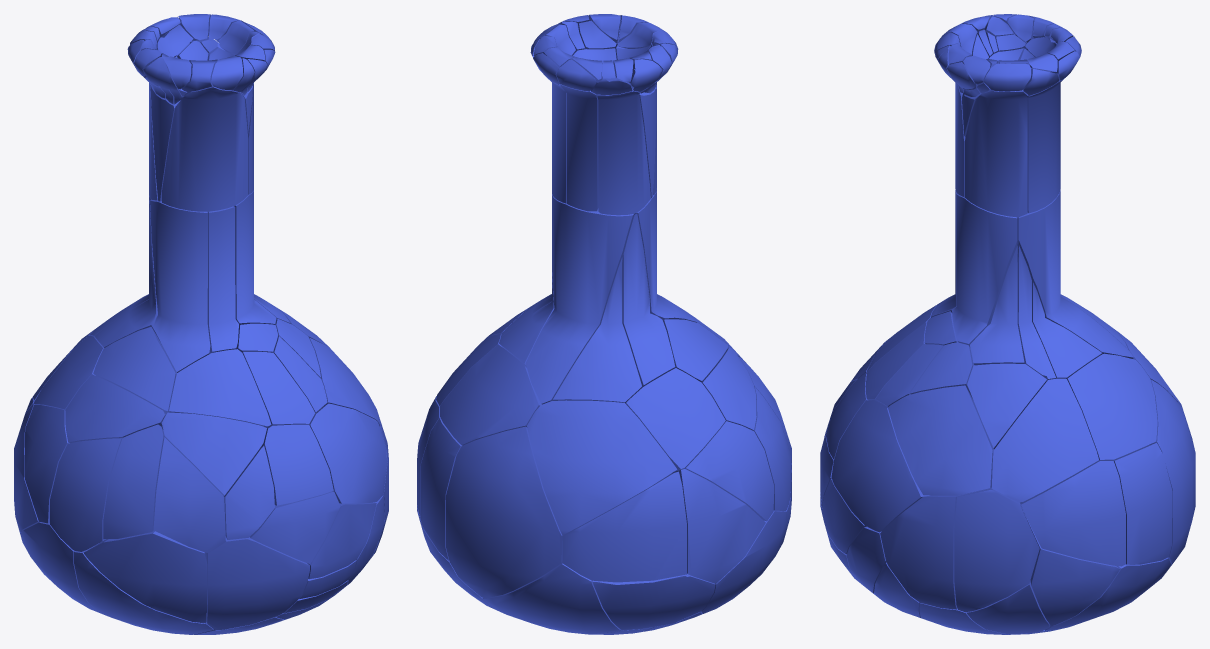
The model's file is BottleFractured 1.fbx.
3 views of the same model, side by side, from view 1: azimuth 30°, elevation 25°; view 2: azimuth 150°, elevation 25°; view 3: azimuth 270°, elevation 25° (orthographic).
Visible parts, largest first — view 1: FlorenceFlask_cell.009, FlorenceFlask_cell.081, FlorenceFlask_cell.029, FlorenceFlask_cell.064, FlorenceFlask_cell.061, FlorenceFlask_cell.020, FlorenceFlask_cell.023, FlorenceFlask_cell.053, FlorenceFlask_cell.030, FlorenceFlask_cell.035, FlorenceFlask_cell.087, FlorenceFlask_cell.083 (+29 smaller); view 2: FlorenceFlask_cell.058, FlorenceFlask_cell.004, FlorenceFlask_cell.012, FlorenceFlask_cell.050, FlorenceFlask_cell.094, FlorenceFlask_cell.013, FlorenceFlask_cell.097, FlorenceFlask_cell.044, FlorenceFlask_cell.015, FlorenceFlask_cell.031, FlorenceFlask_cell.047, FlorenceFlask_cell.042 (+21 smaller); view 3: FlorenceFlask_cell, FlorenceFlask_cell.079, FlorenceFlask_cell.072, FlorenceFlask_cell.093, FlorenceFlask_cell.020, FlorenceFlask_cell.005, FlorenceFlask_cell.094, FlorenceFlask_cell.038, FlorenceFlask_cell.077, FlorenceFlask_cell.012, FlorenceFlask_cell.010, FlorenceFlask_cell.033 (+25 smaller).
Boxes of the visible parts, x1,y1,x2,y2 form: FlorenceFlask_cell.009: (162,86,248,211); FlorenceFlask_cell.081: (150,199,210,372); FlorenceFlask_cell.029: (83,530,207,623); FlorenceFlask_cell.064: (206,536,309,629); FlorenceFlask_cell.061: (50,438,122,551); FlorenceFlask_cell.020: (308,403,387,503); FlorenceFlask_cell.023: (153,437,225,552); FlorenceFlask_cell.053: (169,349,271,427); FlorenceFlask_cell.030: (161,412,266,495); FlorenceFlask_cell.035: (103,424,165,538); FlorenceFlask_cell.087: (65,374,166,442); FlorenceFlask_cell.083: (93,327,176,414); FlorenceFlask_cell.058: (446,426,562,597); FlorenceFlask_cell.004: (527,400,677,534); FlorenceFlask_cell.012: (525,194,634,404); FlorenceFlask_cell.050: (562,471,686,582); FlorenceFlask_cell.094: (439,344,541,445); FlorenceFlask_cell.013: (671,469,765,583); FlorenceFlask_cell.097: (597,82,650,215); FlorenceFlask_cell.044: (625,368,725,470); FlorenceFlask_cell.015: (553,257,641,403); FlorenceFlask_cell.031: (483,561,622,634); FlorenceFlask_cell.047: (675,421,774,521); FlorenceFlask_cell.042: (592,573,715,630); FlorenceFlask_cell: (888,385,994,495); FlorenceFlask_cell.079: (991,378,1098,502); FlorenceFlask_cell.072: (954,489,1039,612); FlorenceFlask_cell.093: (1019,461,1125,566); FlorenceFlask_cell.020: (831,400,929,532); FlorenceFlask_cell.005: (964,89,1028,217); FlorenceFlask_cell.094: (1067,353,1157,461); FlorenceFlask_cell.038: (880,488,992,609); FlorenceFlask_cell.077: (952,194,1017,347); FlorenceFlask_cell.012: (1017,190,1134,358); FlorenceFlask_cell.010: (1109,442,1172,564); FlorenceFlask_cell.033: (1021,507,1119,626).
Bounding box in the file's own units: 65.3 × 109 × 65.3.
